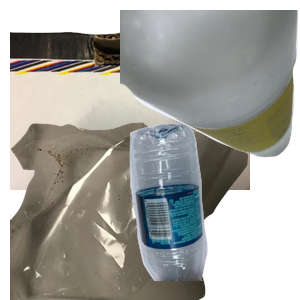cardboard: (10, 29, 250, 209)
glass: (120, 10, 300, 160)
plastic: (127, 120, 300, 300)
trash: (10, 120, 250, 300)
